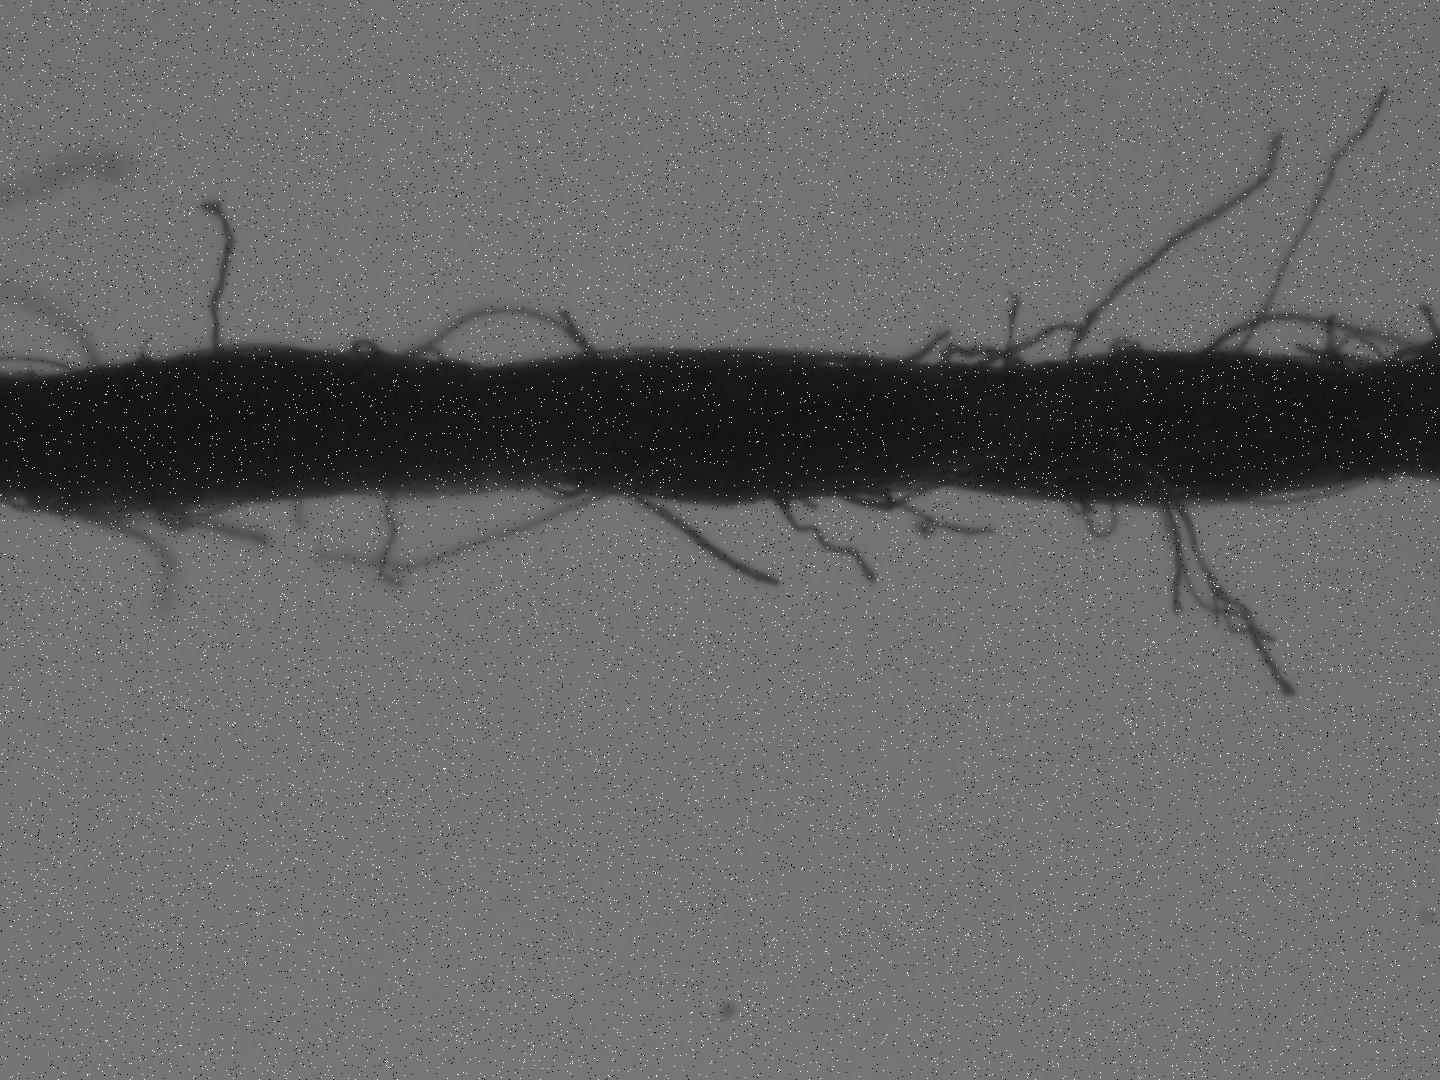loop_fiber: (409, 305, 598, 364), (769, 498, 883, 582), (1209, 312, 1407, 360), (1228, 472, 1386, 511), (829, 480, 956, 512), (998, 323, 1085, 364), (1314, 329, 1389, 365), (1076, 493, 1124, 540), (938, 345, 1019, 368), (536, 474, 581, 498), (151, 503, 188, 530), (347, 332, 379, 356), (1106, 337, 1141, 357)
protruding_fiber: (1066, 133, 1282, 365), (1239, 87, 1387, 352), (619, 487, 787, 591), (203, 196, 234, 355), (380, 492, 403, 590), (898, 327, 952, 363), (1002, 295, 1020, 365)
